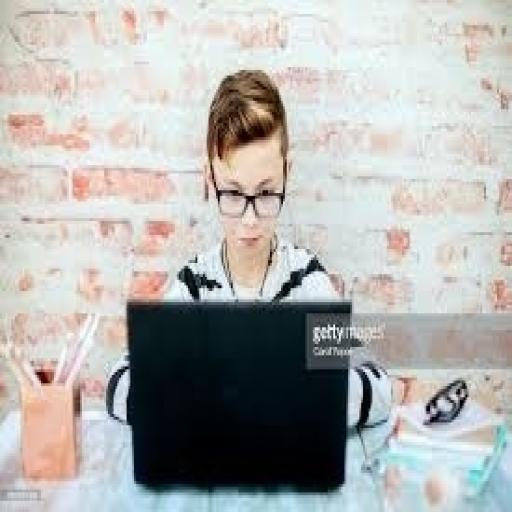using_laptop: (123, 294, 352, 492)
